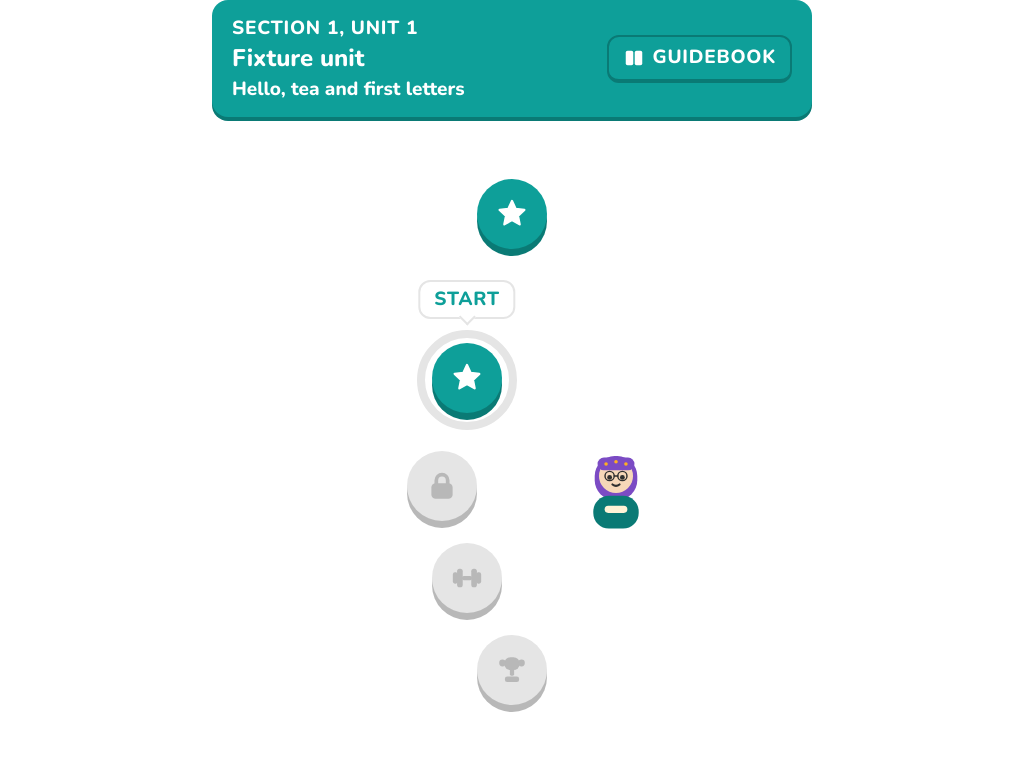
Test: level popover › explains a locked level and offers no link
Click the button named "Lesson: Letter challenges, locked" at (442, 486), box [407,451,477,521]
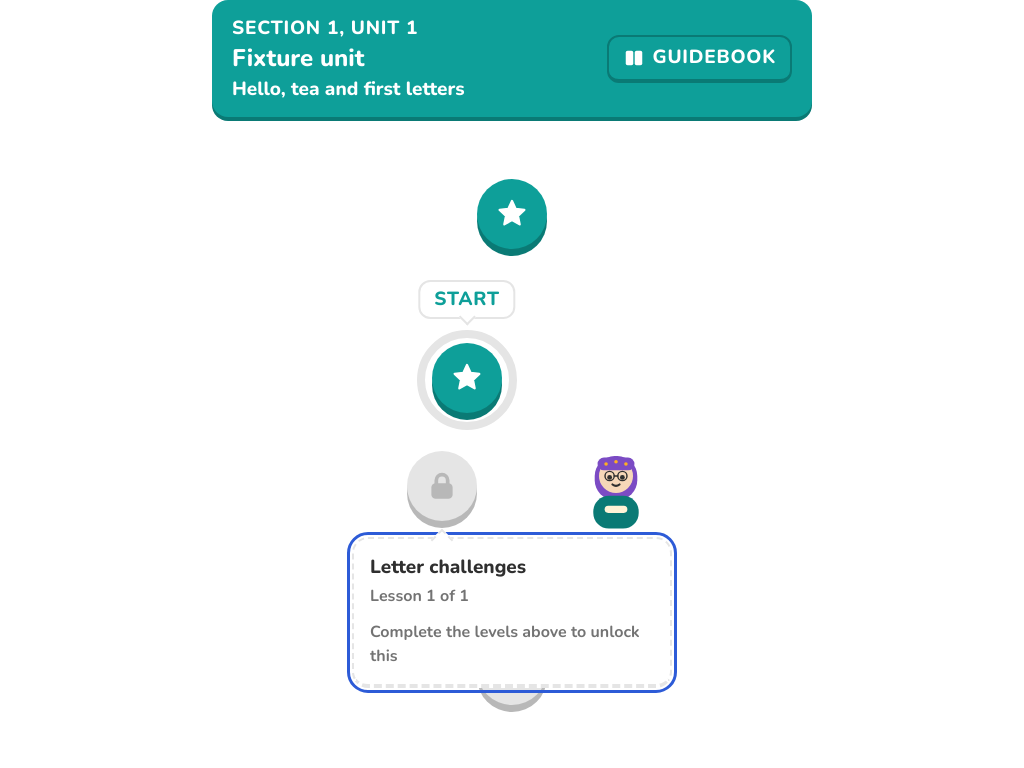
Check: the text "Complete the levels above to unlock this" is shown, box [370,620,654,668]
